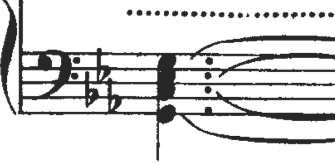bass_clef: (30, 40, 81, 107)
flat: (78, 69, 101, 110), (93, 43, 112, 86), (103, 78, 126, 113)
